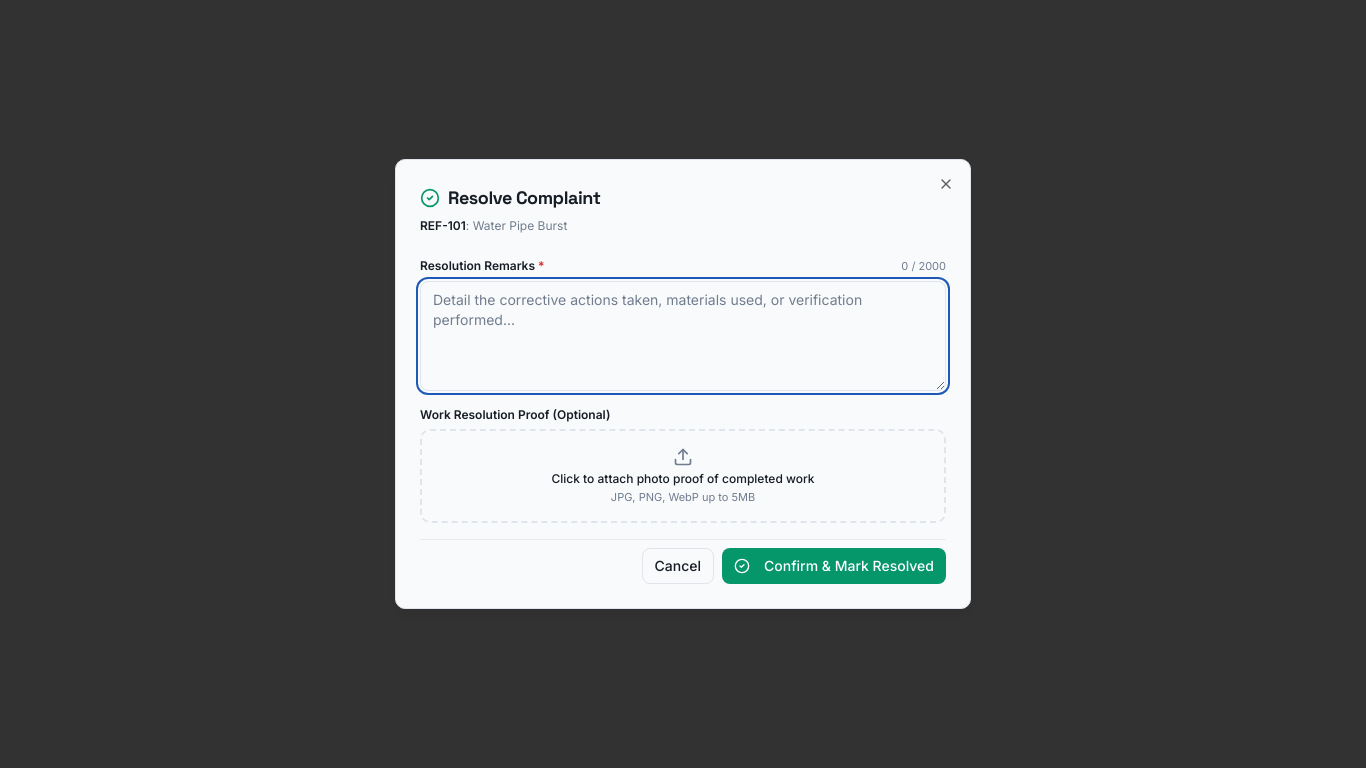
Phase 7B: Complaint Resolution Evidence & Citizen Feedback (Frontend) › 2. ResolveComplaintDialog: validates that remarks cannot be empty
This screenshot has width=1366, height=768.
Step 1. Click the button "Confirm & Mark Resolved" → (834, 566), box 722,548 -> 946,584
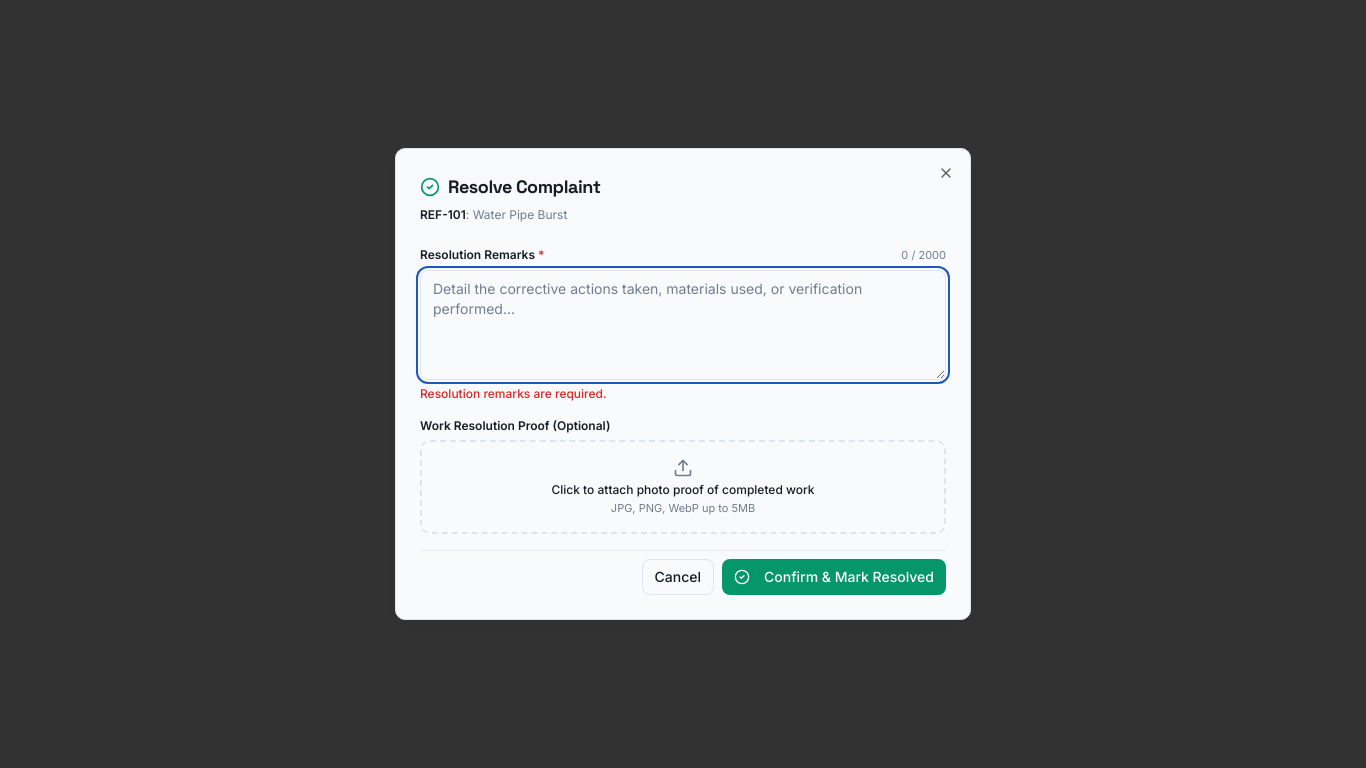
Result: the text "Resolution remarks are required." is shown at 420,386 -> 607,400
